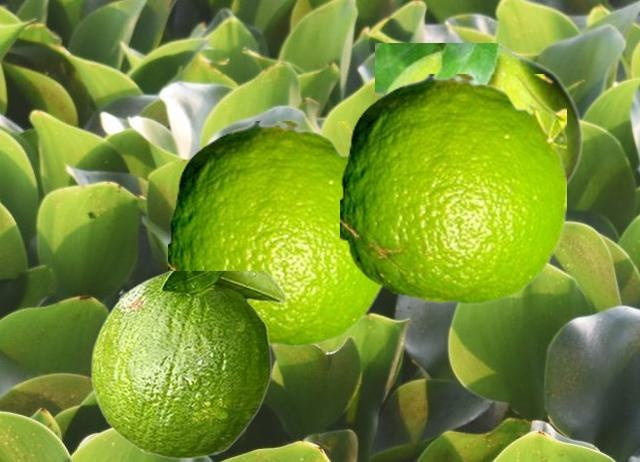dalandan: (340, 74, 565, 303), (168, 121, 383, 345), (90, 271, 286, 458), (375, 43, 583, 189)
